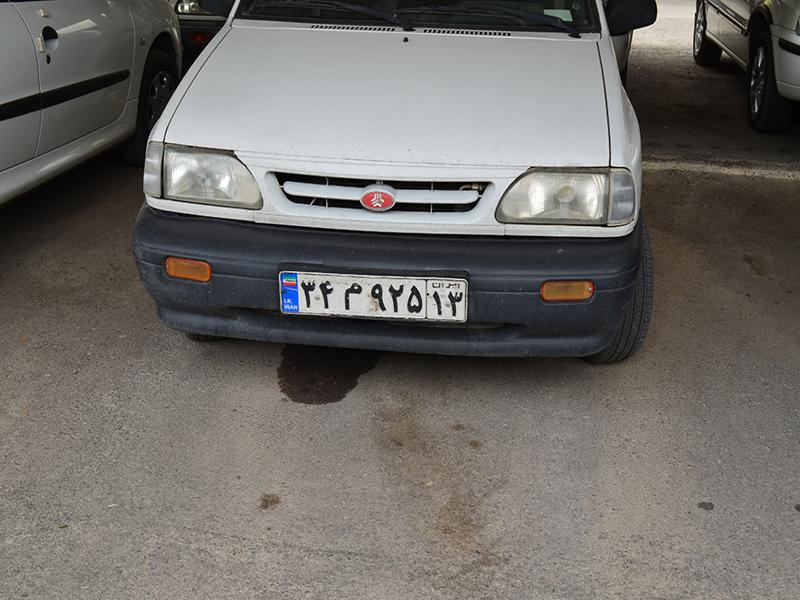Plate: (267, 264, 479, 336)
